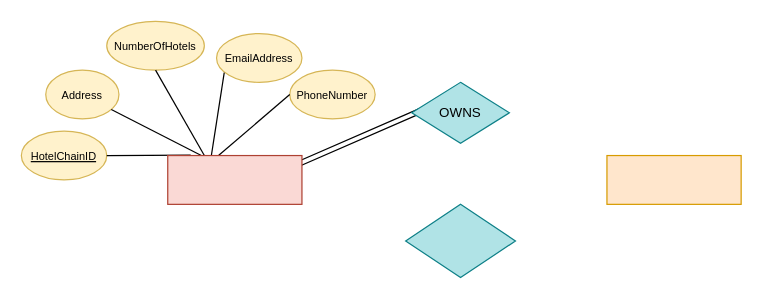
The diagram is 763 pixels wide and 299 high, and some of its shapes have lost their labels. Here are the shapes that lost their labels. From the top down, the box of each, then its label:
(167, 154, 302, 204): HOTEL_CHAIN
(606, 154, 741, 204): HOTEL
(404, 203, 515, 278): BELONGS_TO
